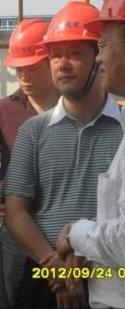hard-hat: (4, 18, 49, 68)
